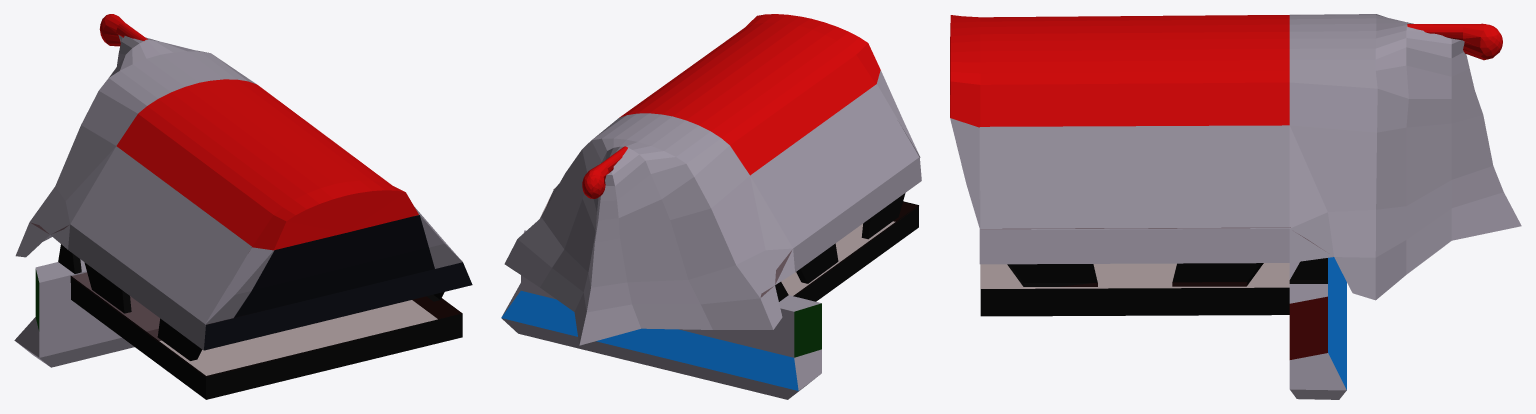
File: proue.obj
3 views of the same model, side by side, from view 1: azimuth 30°, elevation 25°; view 2: azimuth 150°, elevation 25°; view 3: azimuth 270°, elevation 25° (orthographic). The views are drawn at different scales.
Parts seen in each view (by area): view 1: Coque_Cylinder.003, CocqueTriBord_Cylinder.005, Proue_Cylinder, PorteRDC_Cylinder.019, Plancher2_Cylinder.009, Proue2.Batiment_Cylinder.014, CoqueBabord3_Cylinder.010, PortePont1_Cylinder.020, CoqueTribord3_Cylinder.011, Coque.001_Cylinder.018, CoqueTribord2_Cylinder.008, Sphere_Radar (+1 smaller); view 2: Proue_Cylinder, Coque_Cylinder.003, CocqueTriBord_Cylinder.005, Proue2.Batiment.001_Cylinder.015, Proue2.Batiment_Cylinder.014, CoqueTribord3_Cylinder.011, CoqueTribord2_Cylinder.008, Plancher2_Cylinder.009, Proue2.Batiment.002_Cylinder.016, Sphere_Radar, Coque.001_Cylinder.018; view 3: Proue_Cylinder, CocqueBabord_Cylinder.004, Coque_Cylinder.003, CoqueBabord3_Cylinder.010, Plancher2_Cylinder.009, CoqueBabord2_Cylinder.007, Proue2.Batiment_Cylinder.014, Proue2.Batiment.003_Cylinder.017, Proue2.Batiment.001_Cylinder.015, Sphere_Radar, Coque.001_Cylinder.018, Proue2_Cylinder.012.
Boxes of the visible parts, x1,y1,x2,y2 form: Coque_Cylinder.003: (116,79,418,250); CocqueTriBord_Cylinder.005: (68,146,251,350); Proue_Cylinder: (15,35,256,257); PorteRDC_Cylinder.019: (234,215,434,317); Plancher2_Cylinder.009: (70,272,461,376); Proue2.Batiment_Cylinder.014: (14,259,161,367); CoqueBabord3_Cylinder.010: (206,296,462,399); PortePont1_Cylinder.020: (204,262,472,350); CoqueTribord3_Cylinder.011: (70,276,205,399); Coque.001_Cylinder.018: (205,209,462,324); CoqueTribord2_Cylinder.008: (84,262,202,360); Sphere_Radar: (99,14,147,46); Proue_Cylinder: (504,113,794,345); Coque_Cylinder.003: (619,14,880,175); CocqueTriBord_Cylinder.005: (750,84,921,272); Proue2.Batiment.001_Cylinder.015: (501,290,798,390); Proue2.Batiment_Cylinder.014: (501,230,821,399); CoqueTribord3_Cylinder.011: (793,205,918,301); CoqueTribord2_Cylinder.008: (796,193,905,283); Plancher2_Cylinder.009: (781,202,918,295); Proue2.Batiment.002_Cylinder.016: (794,303,821,357); Sphere_Radar: (582,146,627,198); Coque.001_Cylinder.018: (877,70,920,157); Proue_Cylinder: (1289,14,1521,300); CocqueBabord_Cylinder.004: (979,125,1289,264); Coque_Cylinder.003: (950,15,1289,127); CoqueBabord3_Cylinder.010: (980,287,1289,316); Plancher2_Cylinder.009: (980,263,1289,288); CoqueBabord2_Cylinder.007: (1007,263,1263,286); Proue2.Batiment_Cylinder.014: (1289,261,1346,399); Proue2.Batiment.003_Cylinder.017: (1289,296,1327,359); Proue2.Batiment.001_Cylinder.015: (1328,257,1346,389); Sphere_Radar: (1407,23,1502,60); Coque.001_Cylinder.018: (950,118,980,229); Proue2_Cylinder.012: (1289,258,1327,283).
Size of the model in its own units: 21.87 by 16.94 by 29.73.
